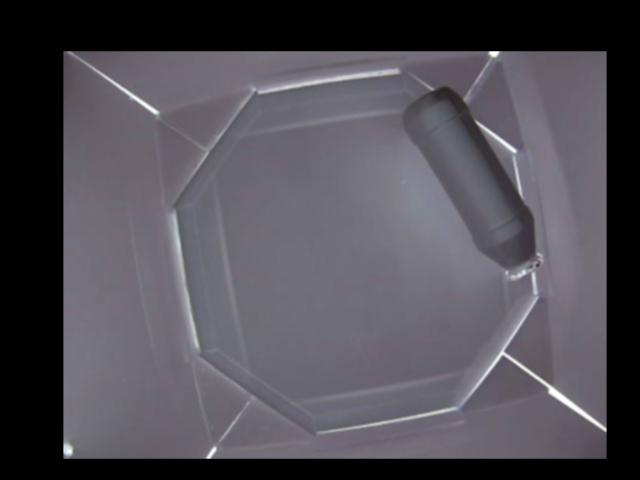Bottle: (401, 86, 542, 284)
